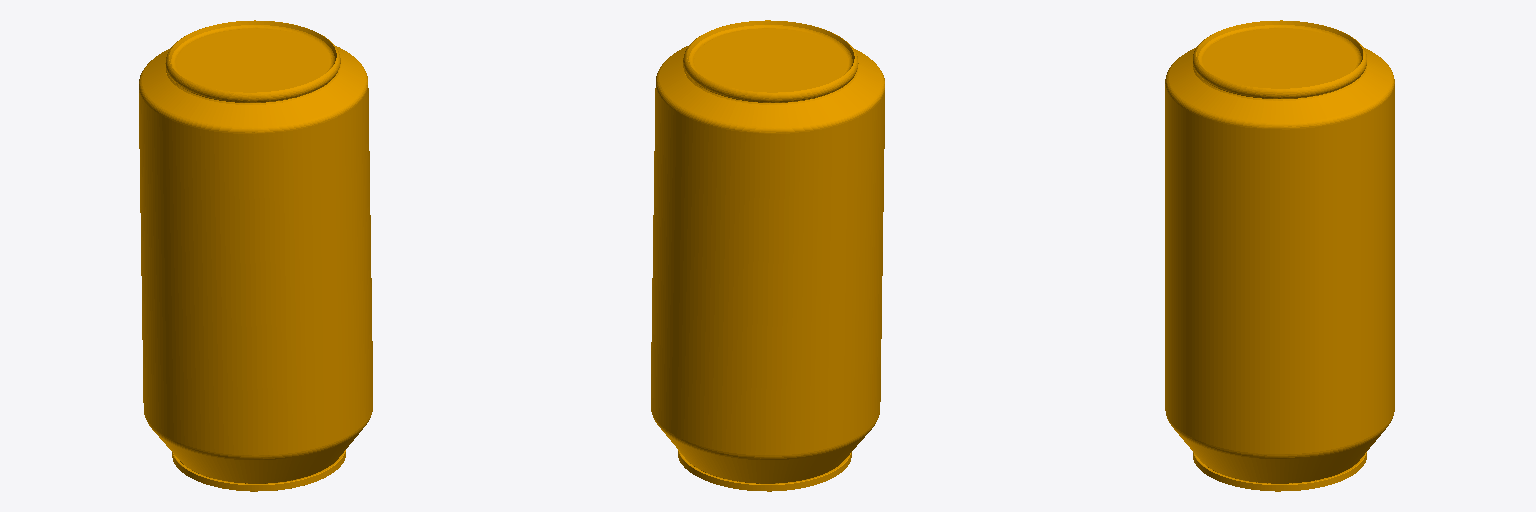
The robot description file, URDF, robot "Coke can":
<?xml version="1.0"?>
<robot name="Coke can">
  <link name="base_link">
    <inertial>
      <origin xyz="0.019894 -0.000002 -0.037046" rpy="0 0 0" />
      <mass value="0.109601" />
      <inertia ixx="0.00006608" ixy="0.00000000" ixz="0.00000069"
               iyy="0.00006610" iyz="-0.00000001" izz="0.00002434" />
    </inertial>
    <visual>
      <geometry><mesh filename="Coke can.stl" scale="1.0 1.0 1.0" /></geometry>
    </visual>
    <collision>
      <geometry><mesh filename="Coke can_col.obj" scale="1.0 1.0 1.0" /></geometry>
    </collision>
    <contact>
      <lateral_friction value="1.0"/>
    </contact>
  </link>
</robot>

--- Facts derived from the render (not from the file) ---
3 views of the same robot in one strip: view 1: azimuth 30°, elevation 25°; view 2: azimuth 150°, elevation 25°; view 3: azimuth 270°, elevation 25° (orthographic).
Robot: Coke can — 1 links, 0 joints (none); root link base_link; default pose: all joints at 0.
Visible links, largest first — view 1: base_link; view 2: base_link; view 3: base_link.
Boxes of the visible links, box(x1,y1,x2,y2) form: base_link: box(139, 20, 372, 491); base_link: box(651, 20, 884, 491); base_link: box(1165, 20, 1394, 491).
Bounding box of the posed robot: 0.0438 × 0.0427 × 0.0824 m (x, y, z).
Meshes: 1 distinct files referenced, 1 mesh visuals loaded (1 binary STL).
